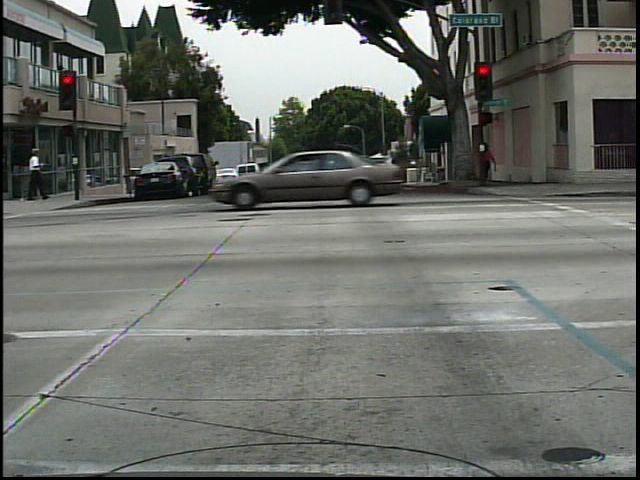person: (22, 142, 50, 207), (472, 140, 502, 193)
